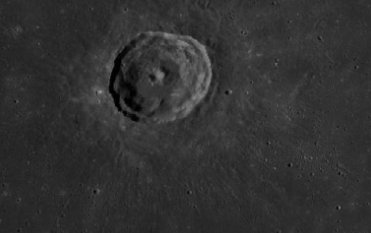crater: (31, 1, 298, 175)
